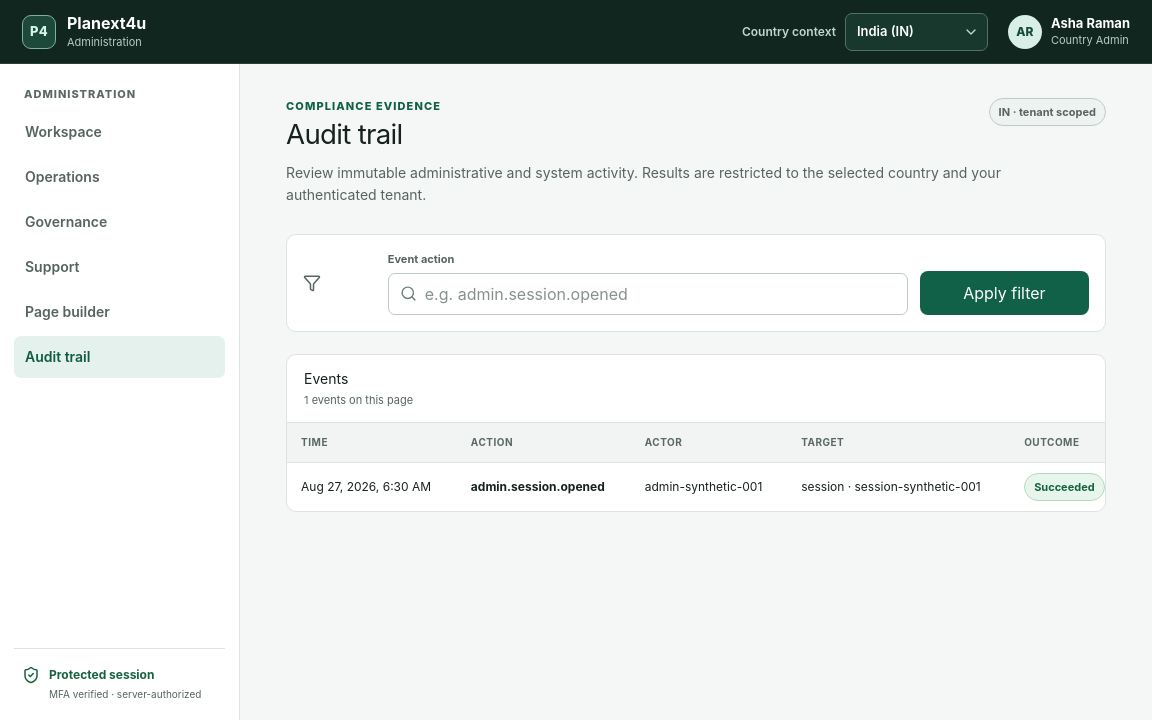
Test: administrator application › validates audit filters before requesting the API
Check: the text "admin.session.opened" is shown, box [471,479,605,494]
In the field labelled "Event action": [660, 294] box [425,282,896,306], type "INVALID ACTION"
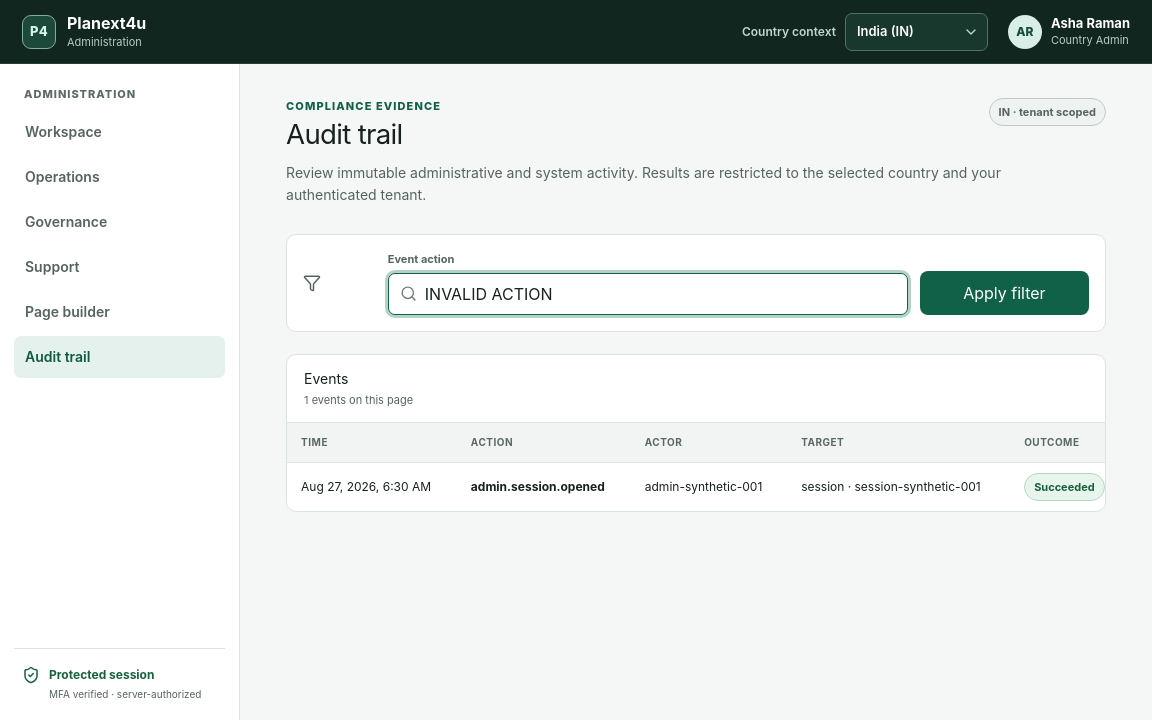
Click the button "Apply filter": [1004, 293] box [920,271,1089,315]
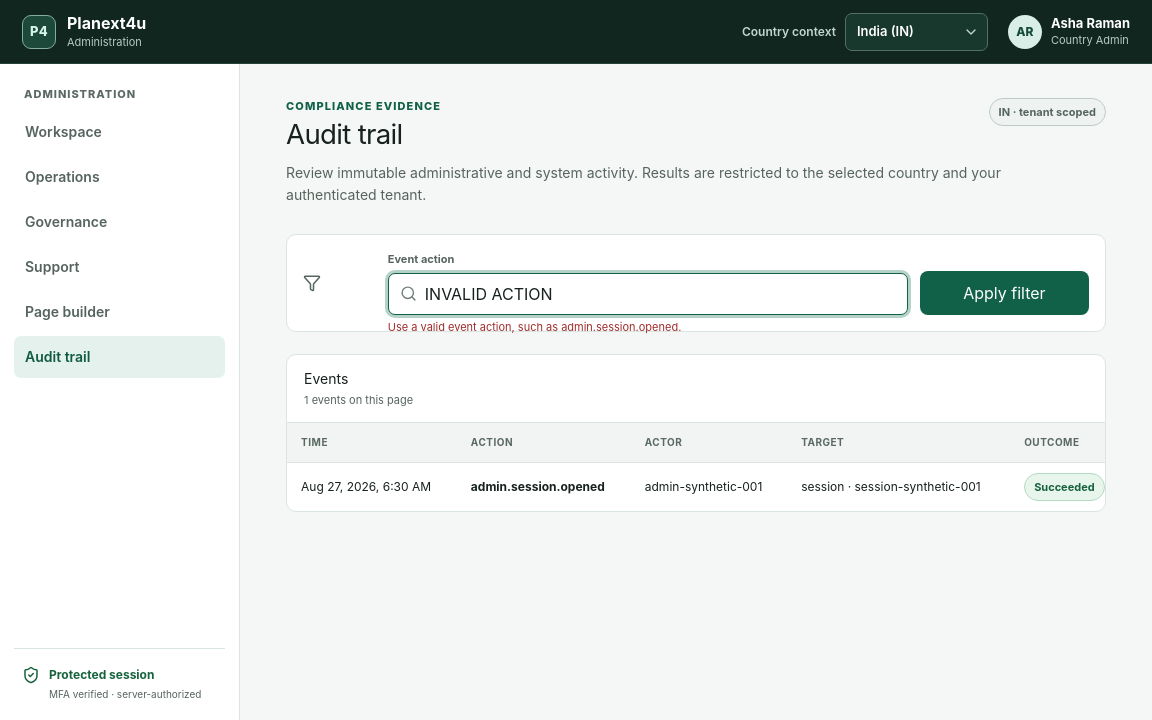
Check: the text "Use a valid event action, such as admin.session.opened." is shown, box [388,319,681,335]
